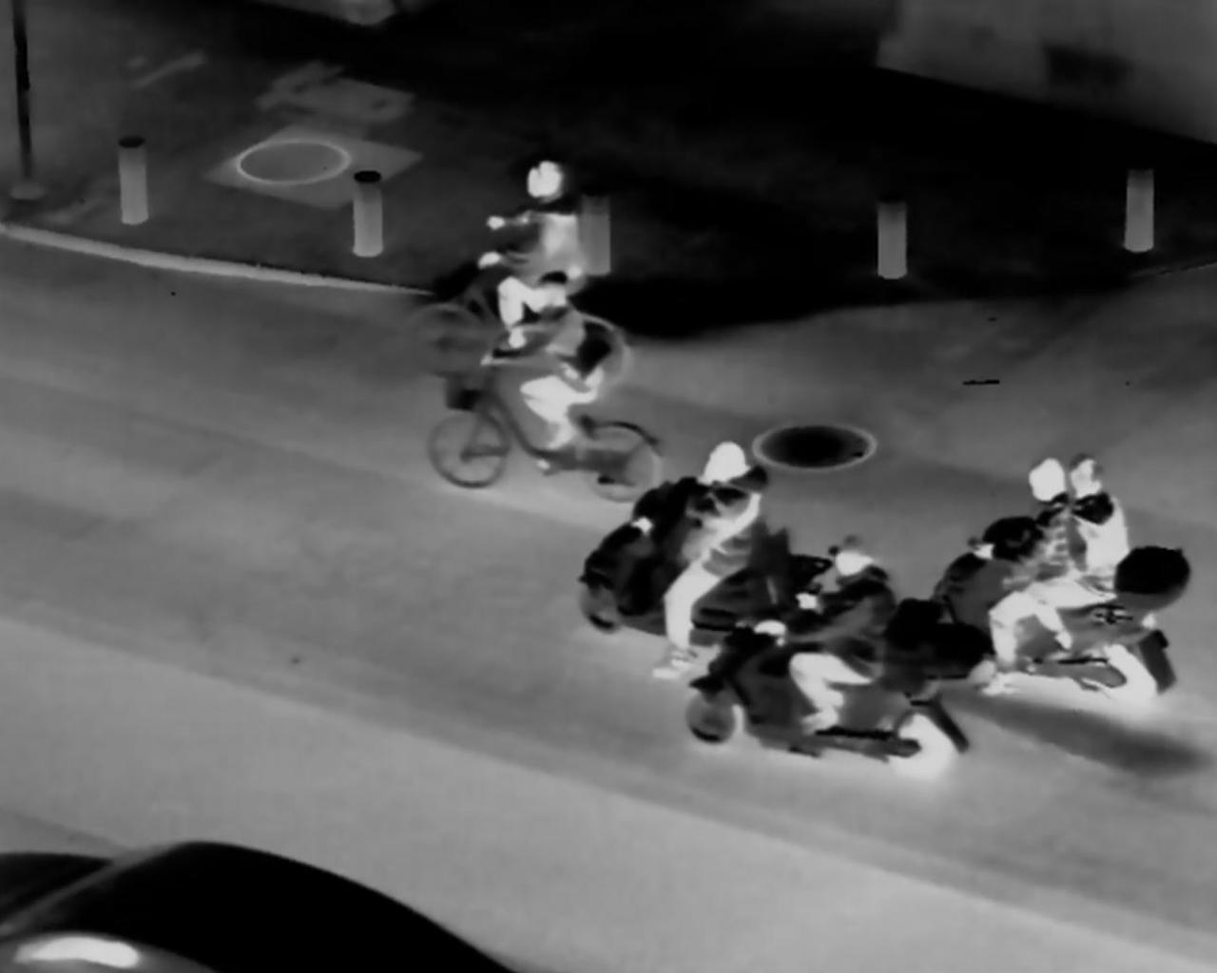person: (660, 415, 766, 685), (477, 158, 589, 379), (482, 258, 603, 430), (795, 537, 894, 745), (997, 443, 1070, 669), (1055, 448, 1130, 656)
